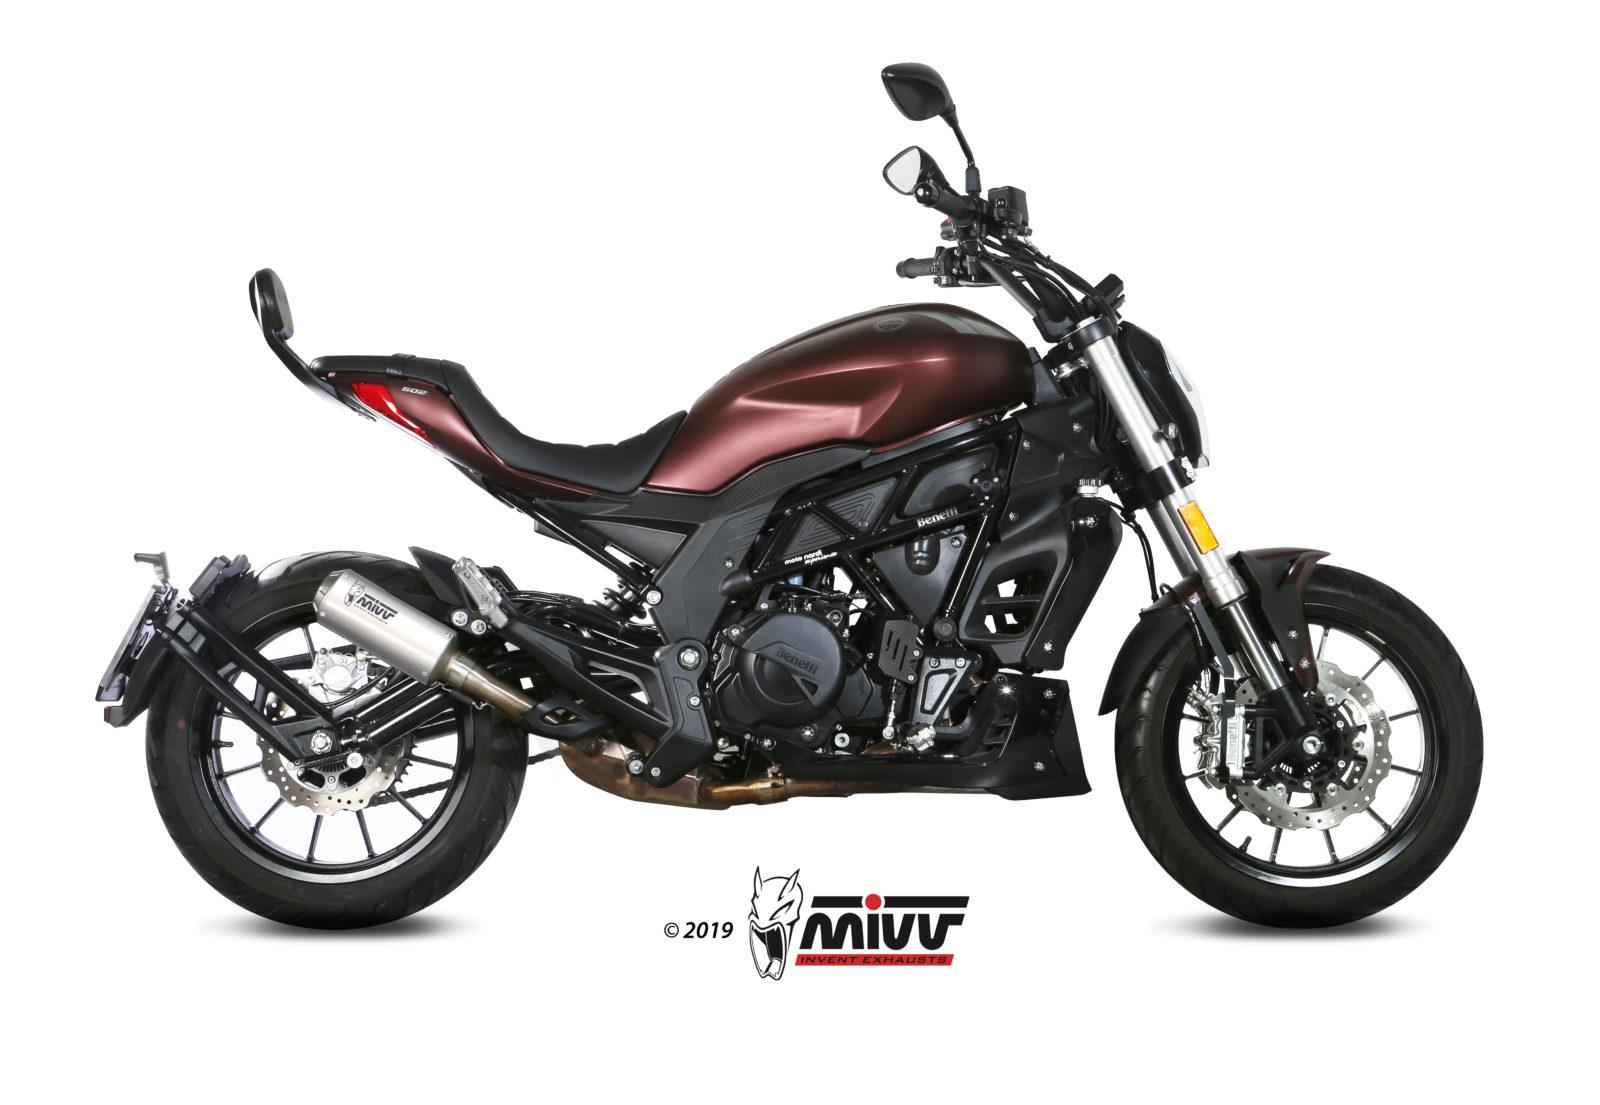engine-chasis: (546, 401, 1093, 801), (588, 574, 647, 624), (629, 560, 654, 581)
exhaust: (312, 568, 993, 811)
frontside: (957, 316, 1333, 780)
handlebar: (880, 62, 1126, 350)
motorbike: (94, 62, 1484, 928)
rearside: (248, 267, 664, 607), (95, 551, 460, 763), (409, 546, 674, 740)
seat: (309, 353, 687, 494)
tank: (643, 301, 1033, 495)
watermark: (643, 859, 1013, 1002)
wheel: (1114, 563, 1484, 930), (145, 654, 529, 930), (203, 549, 438, 710), (1095, 496, 1210, 693), (503, 590, 664, 644), (528, 746, 562, 766)
